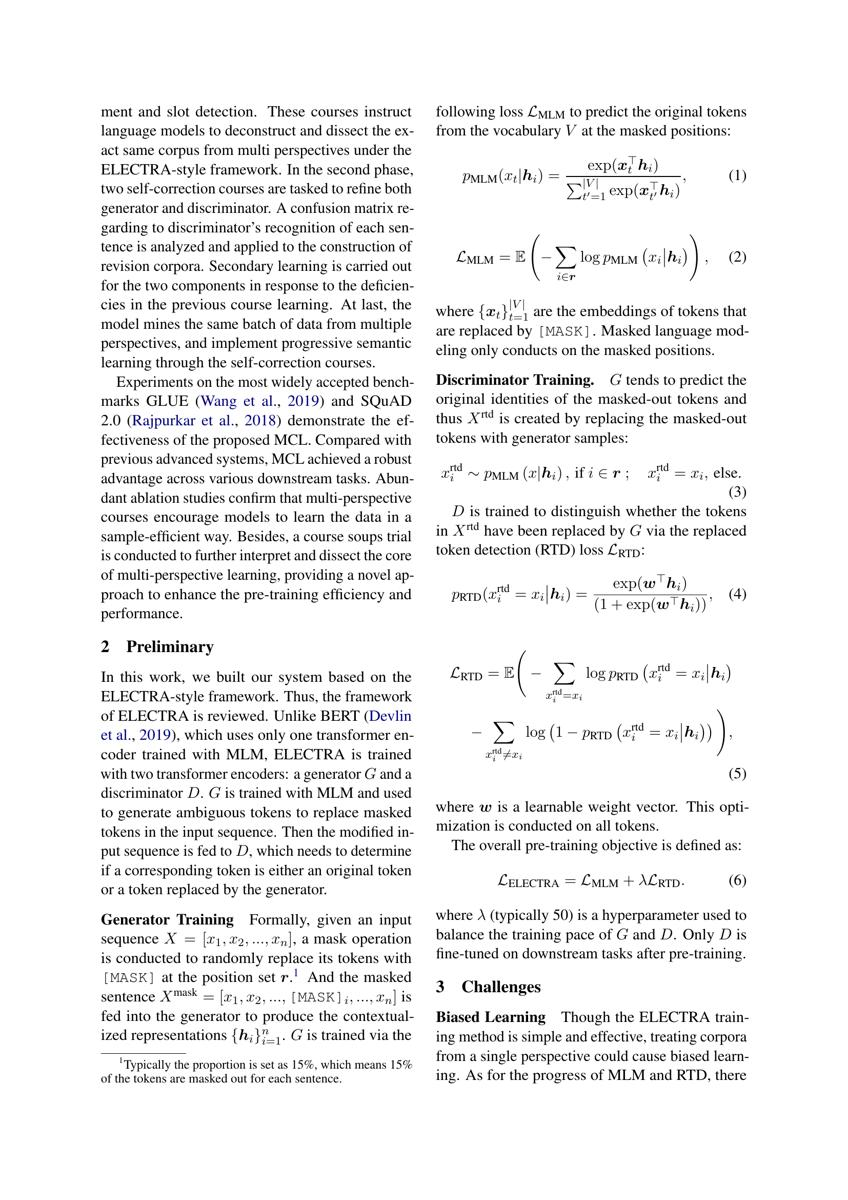text: (95, 100, 418, 625), (430, 647, 753, 1088), (95, 634, 418, 1048), (430, 99, 753, 362), (431, 369, 752, 619)
